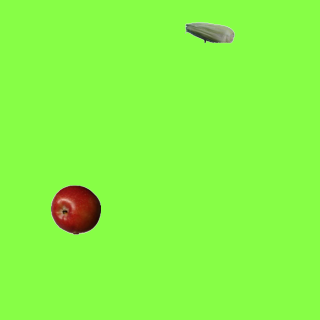Apple Braeburn: (50, 184, 100, 234)
Corn Husk: (184, 7, 234, 57)
